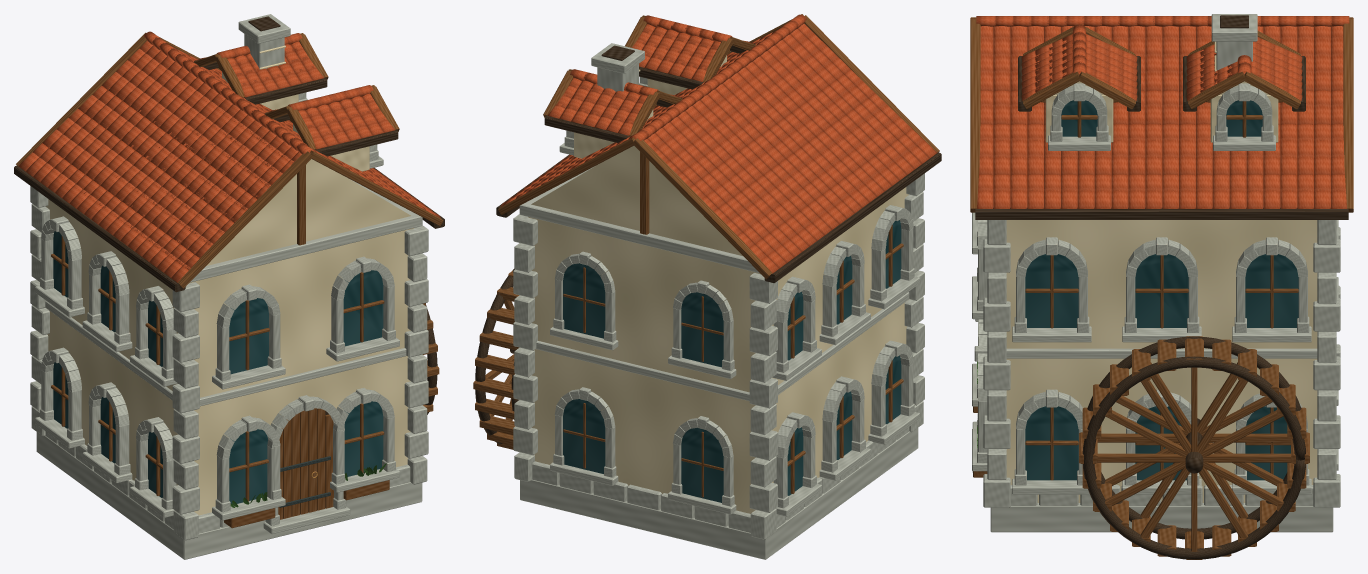
Rendered from watermill.glb.
3 renders of one model, left to right at view 1: azimuth 30°, elevation 25°; view 2: azimuth 150°, elevation 25°; view 3: azimuth 270°, elevation 25°, orthographic. The views are drawn at different scales.
Visible parts, largest first — view 1: watermill_Structure.001, watermill_Roof.001, watermill_Detail.001, watermill_Joinery.001, watermill_Glazing.001; view 2: watermill_Structure.001, watermill_Roof.001, watermill_Detail.001, watermill_Joinery.001, watermill_Glazing.001; view 3: watermill_Structure.001, watermill_Roof.001, watermill_Joinery.001, watermill_Detail.001, watermill_Glazing.001.
Boxes of the visible parts, bbox=[...] form: watermill_Structure.001: bbox=[30, 14, 428, 559]; watermill_Roof.001: bbox=[18, 31, 440, 282]; watermill_Detail.001: bbox=[35, 92, 399, 533]; watermill_Joinery.001: bbox=[14, 32, 444, 528]; watermill_Glazing.001: bbox=[53, 231, 383, 503]; watermill_Structure.001: bbox=[513, 43, 924, 559]; watermill_Roof.001: bbox=[500, 14, 937, 273]; watermill_Detail.001: bbox=[550, 77, 919, 516]; watermill_Joinery.001: bbox=[473, 14, 941, 497]; watermill_Glazing.001: bbox=[563, 220, 901, 502]; watermill_Structure.001: bbox=[983, 14, 1340, 532]; watermill_Roof.001: bbox=[976, 16, 1349, 208]; watermill_Joinery.001: bbox=[970, 17, 1353, 559]; watermill_Detail.001: bbox=[972, 83, 1338, 494]; watermill_Glazing.001: bbox=[1025, 100, 1298, 480].
Bounding box in the file's own units: 7.27 × 9.02 × 6.51.
4 materials, 4 textured.
